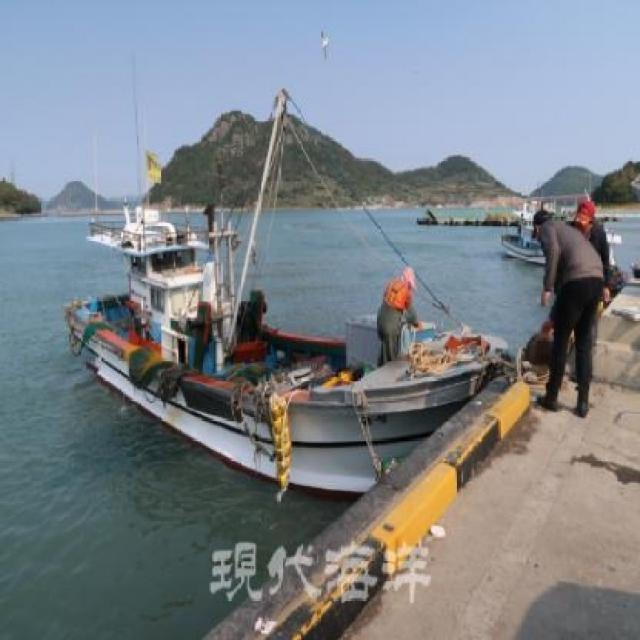Ship: (73, 164, 516, 499)
